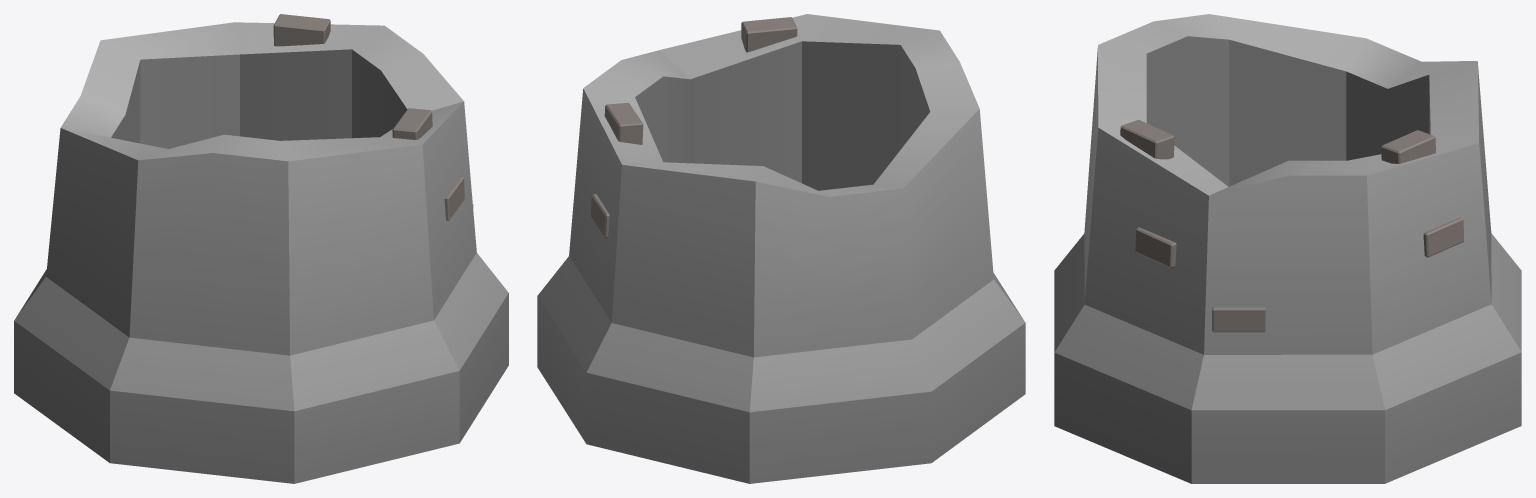
The model's file is [OBJ]Torre_ruina.fbx.
The picture shows the model from 3 angles, left to right: view 1: azimuth 30°, elevation 25°; view 2: azimuth 150°, elevation 25°; view 3: azimuth 270°, elevation 25°; orthographic projection. The views are drawn at different scales.
Visible parts, largest first — view 1: [OBJ]Torre_ruina; view 2: [OBJ]Torre_ruina; view 3: [OBJ]Torre_ruina.
Part boxes in pixels (x1,y1,x2,y2): [OBJ]Torre_ruina: [14, 14, 508, 483]; [OBJ]Torre_ruina: [537, 14, 1025, 483]; [OBJ]Torre_ruina: [1054, 14, 1521, 483].
Size of the model in its own units: 169 by 123 by 169.
